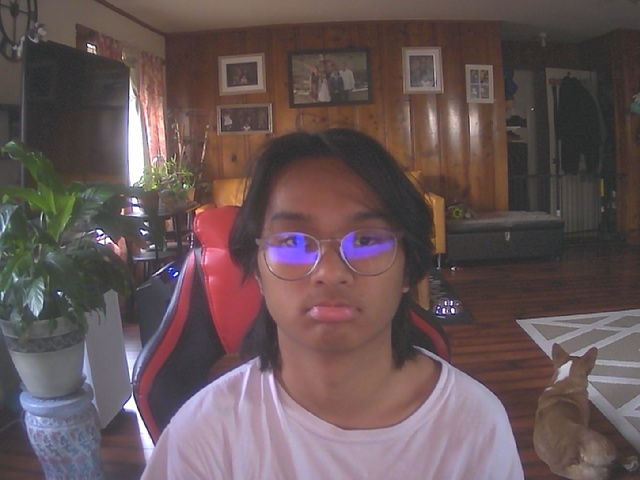sad: (253, 135, 420, 357)
